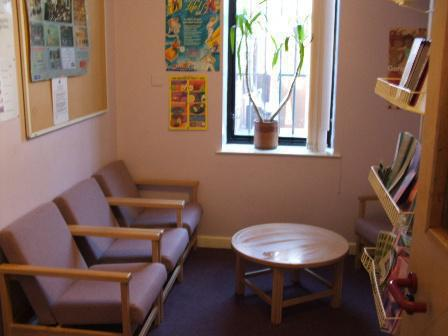Matera: (224, 14, 304, 146)
Ventana: (229, 5, 333, 150)
